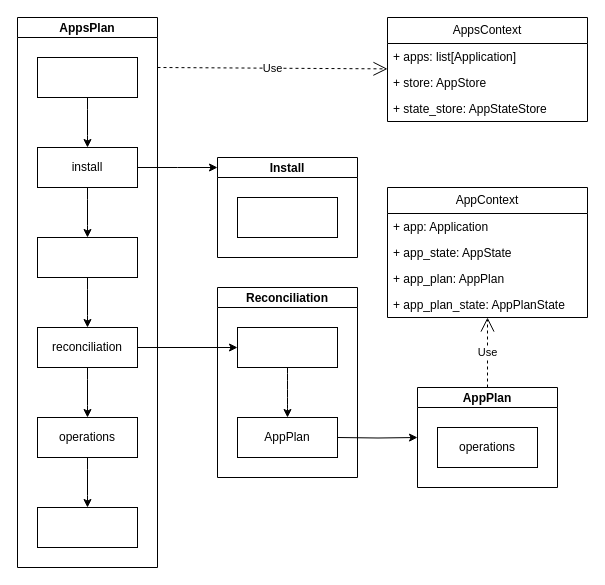
Some shapes in this 605 by 585 pixel diagram are drawn without their labels. Here are the shapes that lost their labels. From the top down, the centre of each, then its label:
At point 87,77: "before_install".
At point 287,217: "Pip / Uv / Poetry".
At point 87,257: "after_install".
At point 287,347: "For each updated application".
At point 87,527: "Collect AppState update and commit".
